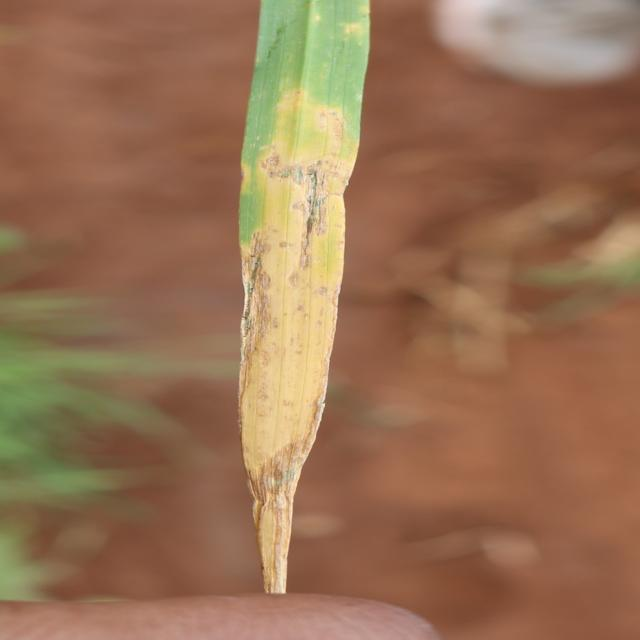Septoria: (234, 1, 372, 594)
